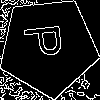P: (23, 21, 71, 59)
